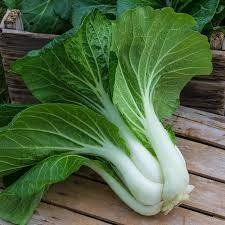Healthy-Pechay: (0, 12, 223, 207)
